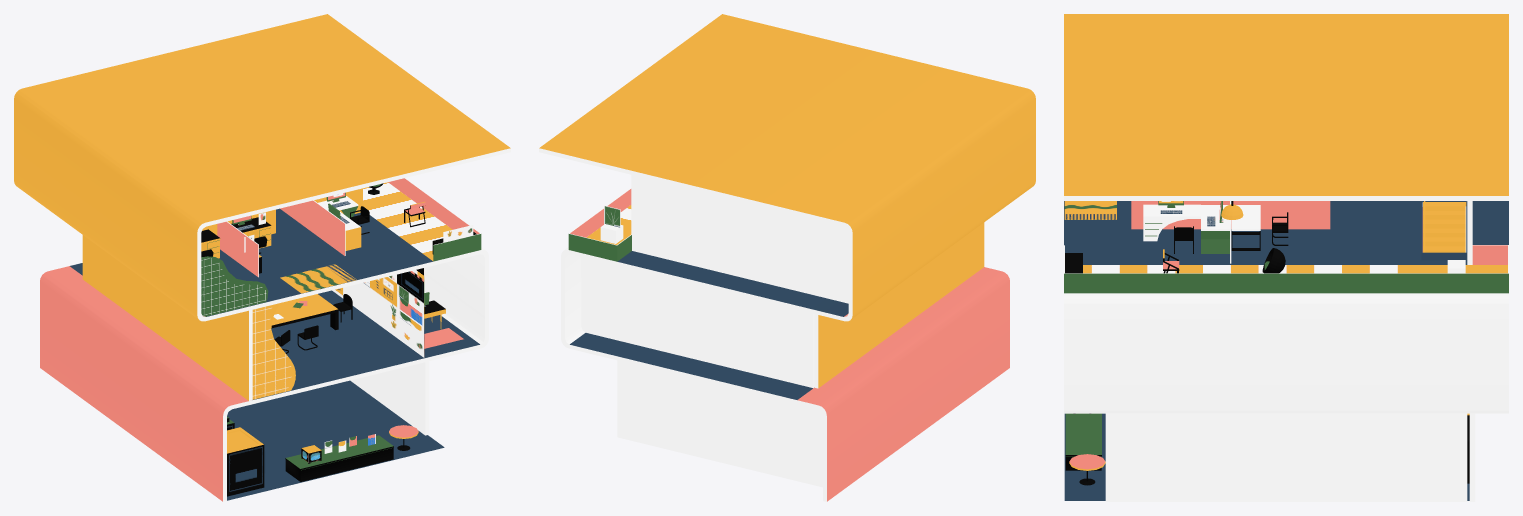
Rendered from 产品线detail.fbx.
3 views of the same model, side by side, from view 1: azimuth 30°, elevation 25°; view 2: azimuth 150°, elevation 25°; view 3: azimuth 270°, elevation 25° (orthographic). The views are drawn at different scales.
Parts seen in each view (by area): view 1: building, Plane, glass, sacond_glass, firsrt_galss, wall, wall_2, table, machine1, bar, wall2, meeting_table (+3 smaller); view 2: building, sacond_glass, bar; view 3: building, sacond_glass, firsrt_galss, bar, wall2, stairs2, table, Plane, table_7, table_17, carpet, table_15 (+1 smaller).
Part boxes in pixels (x1=…): building: x1=14, y1=14, x2=510, y2=501; Plane: x1=227, y1=380, x2=444, y2=500; glass: x1=332, y1=268, x2=424, y2=357; sacond_glass: x1=424, y1=247, x2=488, y2=348; firsrt_galss: x1=350, y1=361, x2=429, y2=435; wall: x1=252, y1=303, x2=295, y2=399; wall_2: x1=201, y1=256, x2=268, y2=316; table: x1=285, y1=435, x2=393, y2=481; machine1: x1=227, y1=427, x2=265, y2=496; bar: x1=388, y1=178, x2=481, y2=261; wall2: x1=280, y1=200, x2=345, y2=255; meeting_table: x1=271, y1=294, x2=338, y2=330; building: x1=539, y1=14, x2=1035, y2=501; sacond_glass: x1=561, y1=247, x2=585, y2=348; bar: x1=568, y1=188, x2=631, y2=261; building: x1=1064, y1=14, x2=1508, y2=501; sacond_glass: x1=1064, y1=293, x2=1508, y2=413; firsrt_galss: x1=1105, y1=413, x2=1467, y2=501; bar: x1=1064, y1=245, x2=1508, y2=293; wall2: x1=1131, y1=201, x2=1330, y2=229; stairs2: x1=1423, y1=201, x2=1466, y2=252; table: x1=1065, y1=413, x2=1101, y2=470; Plane: x1=1064, y1=413, x2=1469, y2=500; table_7: x1=1143, y1=204, x2=1200, y2=241; table_17: x1=1201, y1=205, x2=1229, y2=253; carpet: x1=1064, y1=201, x2=1116, y2=219; table_15: x1=1231, y1=205, x2=1260, y2=250.
Size of the model in its own units: 1215 by 1056 by 1230.
